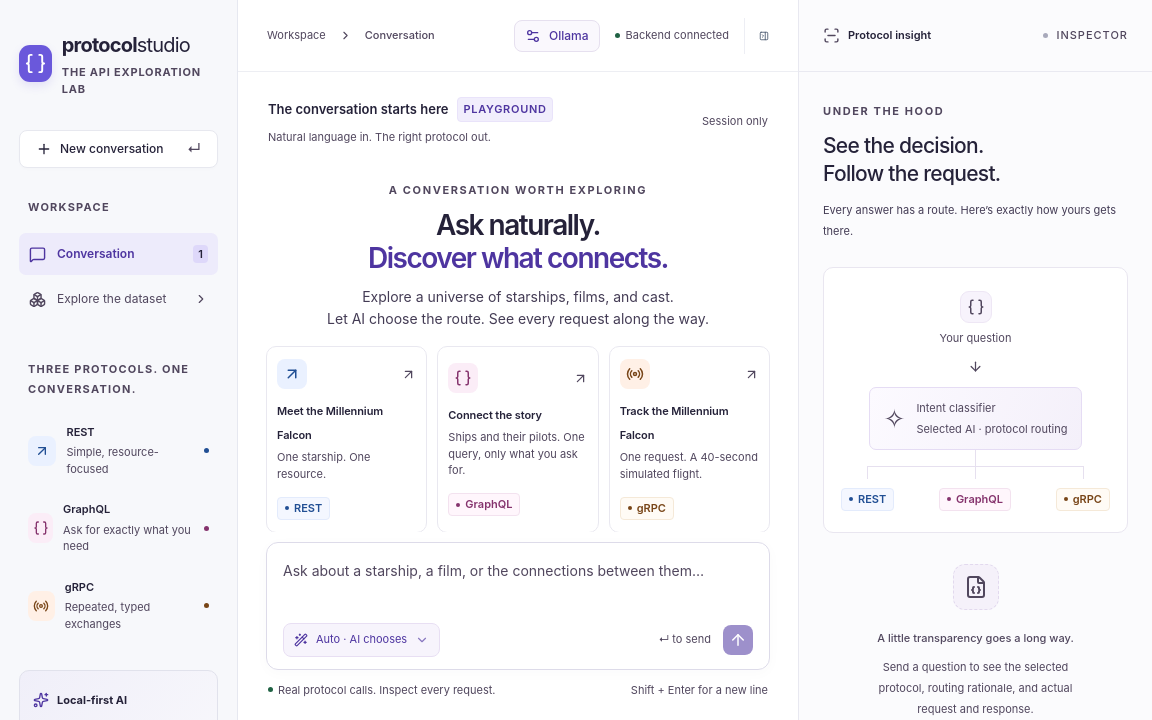
opens guide and returns through either navigation control
Click the button "Explore the dataset".
click(118, 299)  # box [19, 278, 218, 320]
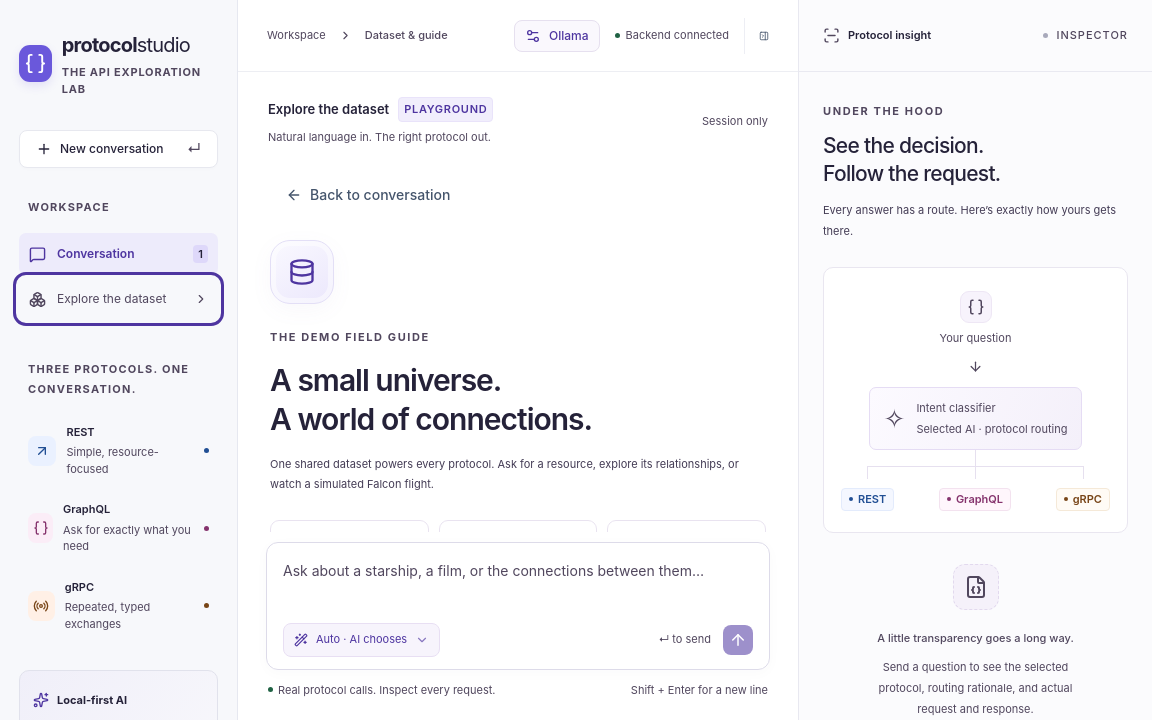
Click the button "Back to conversation".
click(368, 195)  # box [270, 175, 466, 215]
(page scrolled)
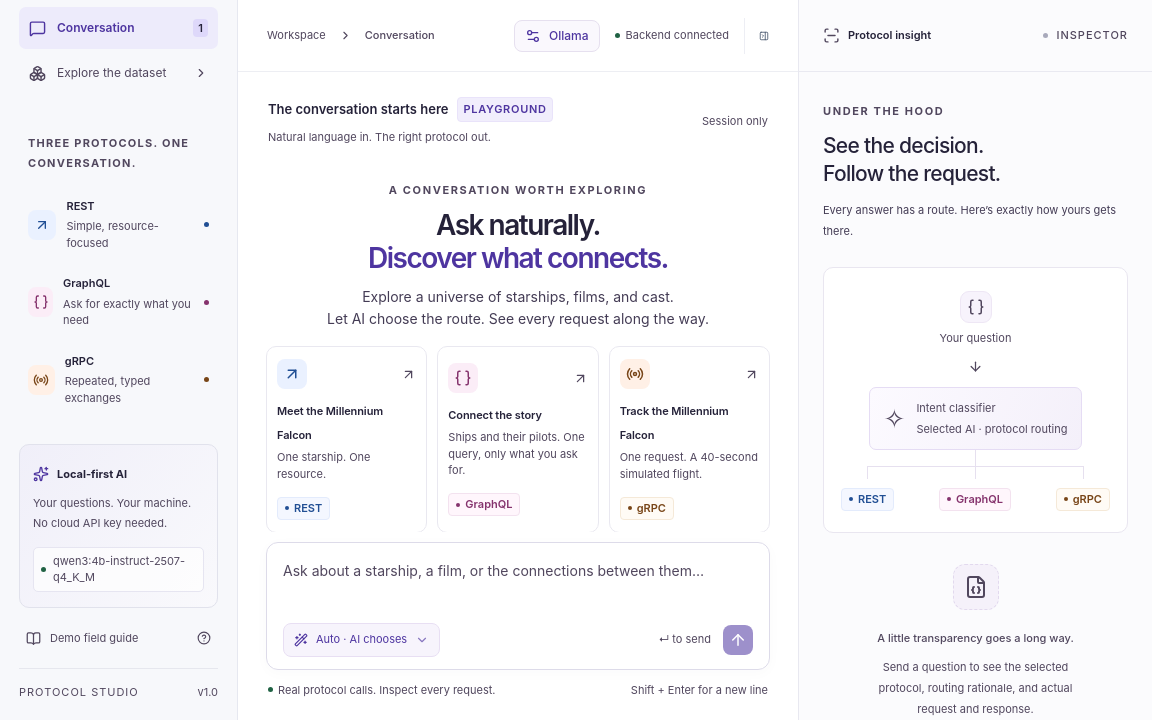
Click the button "Demo field guide".
click(118, 638)  # box [19, 608, 218, 668]
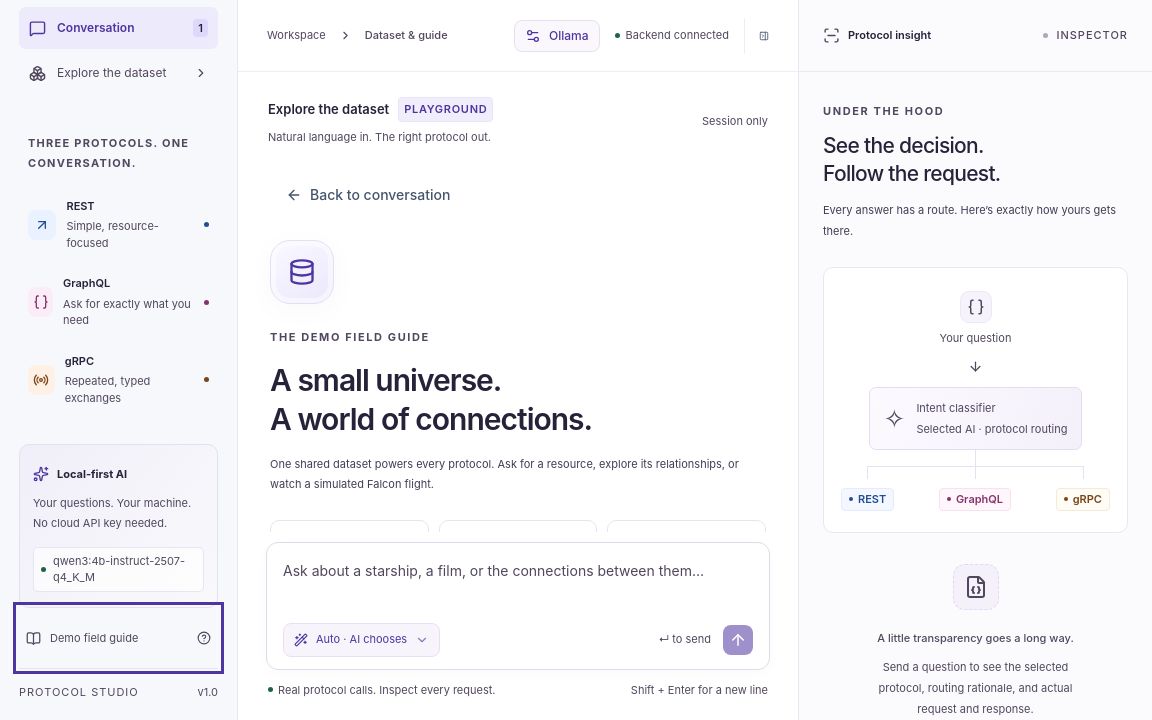
Click the button "Conversation 1".
click(118, 28)  # box [19, 7, 218, 49]
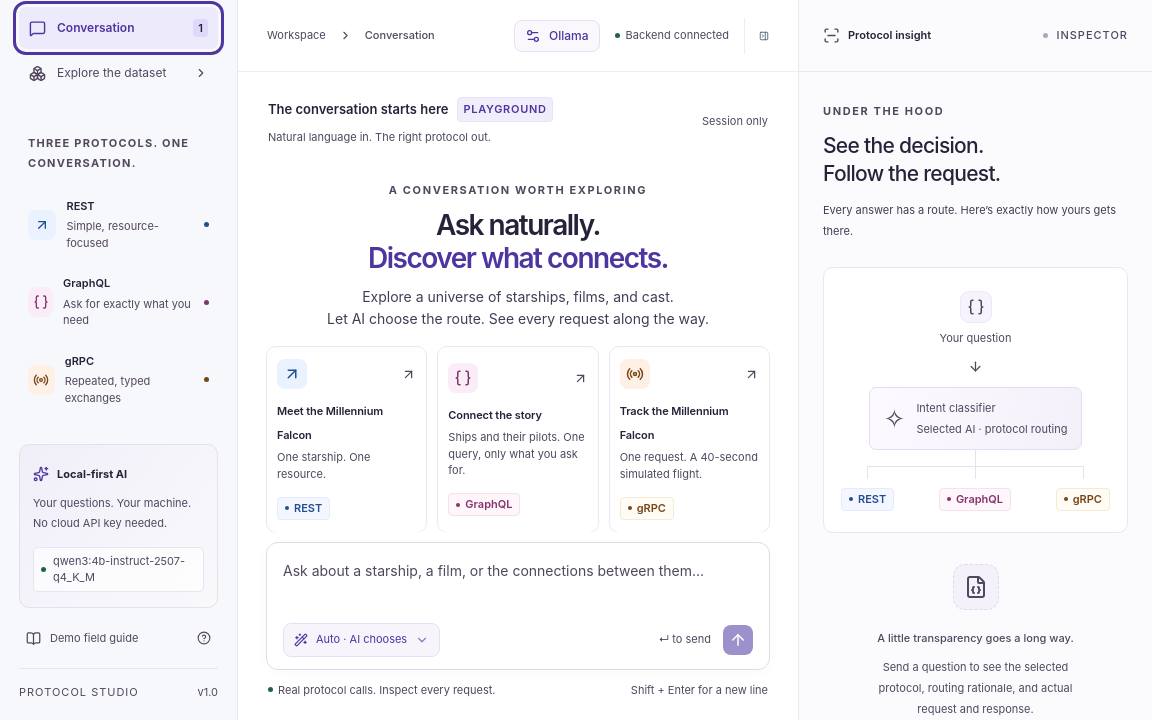
Expected: the text "Discover what connects." is shown, [368, 241, 668, 275]
